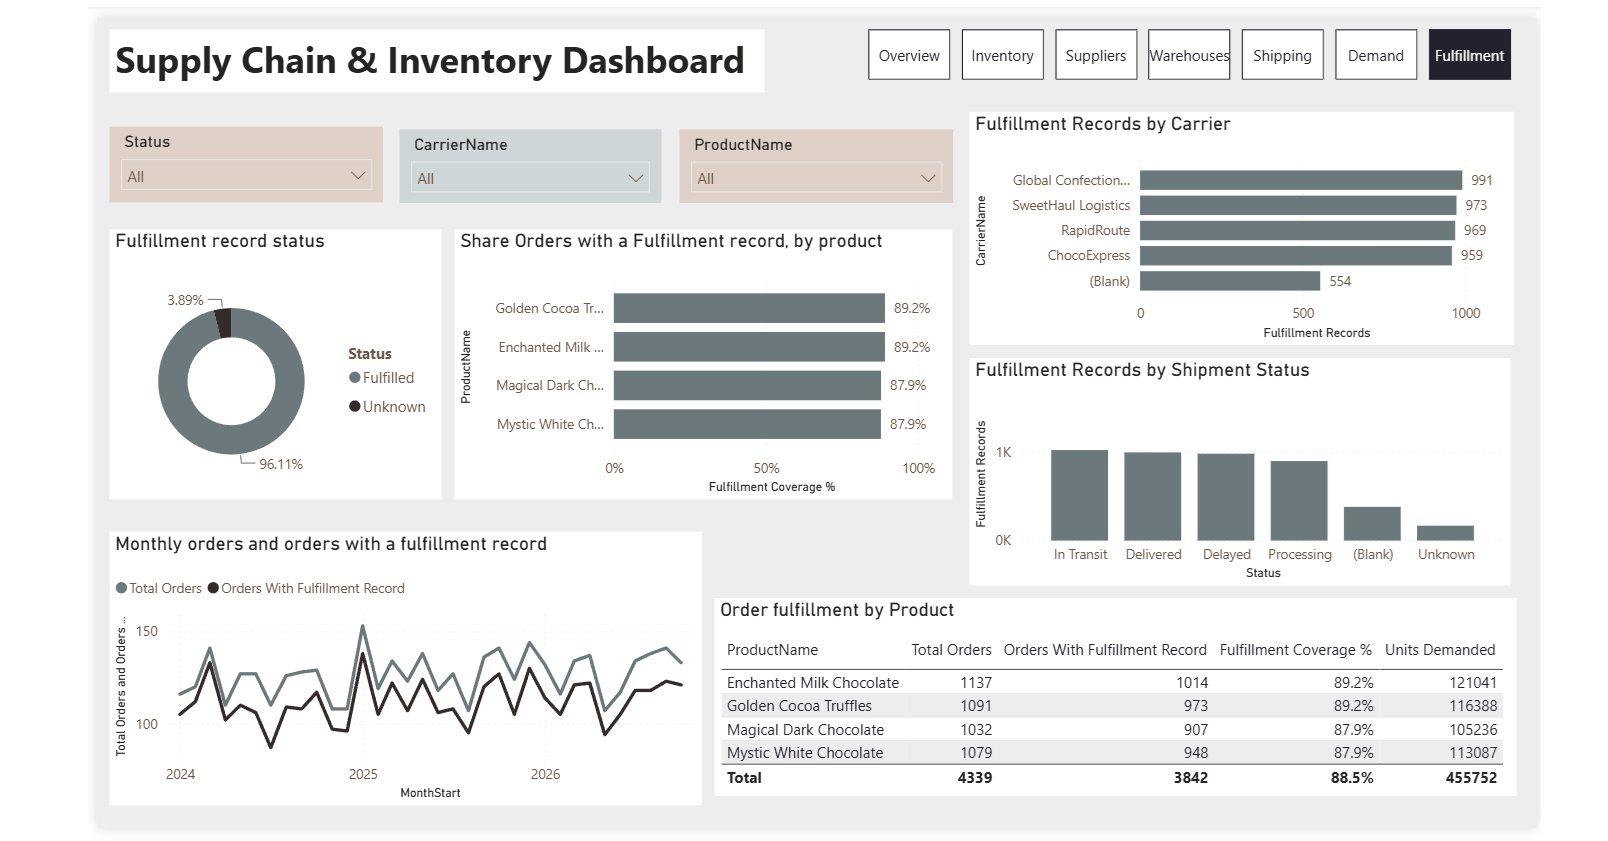

Layout of this report page (visuals, bound fields, positions):
{"tool":"powerbi","page":{"name":"Fulfillment","canvas":[1280,720],"ordinal":6},"visuals":[{"type":"clusteredBarChart","title":"Share Orders with a Fulfillment record, by product","fields":{"Category":["sales_orders_clean.ProductName"],"Y":["carriers_clean.Fulfillment Coverage %"]},"box":[318,188.1,442.7,240.1],"z":0},{"type":"clusteredColumnChart","title":"Fulfillment Records by Shipment Status","fields":{"Category":["shipment_tracking_clean.Status"],"Y":["carriers_clean.Fulfillment Records"]},"box":[775.8,302.1,481.1,202.1],"z":1000},{"type":"clusteredBarChart","title":"Fulfillment Records by Carrier","fields":{"Category":["carriers_clean.CarrierName"],"Y":["carriers_clean.Fulfillment Records"]},"box":[775.8,83.2,484.2,207.4],"z":2000},{"type":"lineChart","title":"Monthly orders and orders with a fulfillment record","fields":{"Y":["sales_orders_clean.Total Orders","carriers_clean.Orders With Fulfillment Record"],"Category":["sales_orders_clean.MonthStart"]},"box":[11.6,456.8,526.3,243.2],"z":3000},{"type":"tableEx","title":"Order fulfillment by Product","fields":{"Values":["sales_orders_clean.ProductName","sales_orders_clean.Total Orders","carriers_clean.Orders With Fulfillment Record","carriers_clean.Fulfillment Coverage %","carriers_clean.Units Demanded"]},"box":[548.4,515.8,712.6,175.8],"z":4000},{"type":"slicer","fields":{"Values":["sales_orders_clean.ProductName"]},"box":[517.9,98.9,243.5,65.2],"z":5000},{"type":"slicer","fields":{"Values":["carriers_clean.CarrierName"]},"box":[268.4,98.9,232.6,65.2],"z":6000},{"type":"slicer","fields":{"Values":["shipment_tracking_clean.Status"]},"box":[11.6,96.8,243.5,67.4],"z":7000},{"type":"textbox","box":[11.6,10.5,582.1,55.8],"z":8000},{"type":"pageNavigator","box":[685.5,10.5,575,45.7],"z":9000},{"type":"donutChart","title":"Fulfillment record status","fields":{"Category":["fulfillment_status_clean.Status"],"Y":["carriers_clean.Fulfillment Records"]},"box":[11.4,188.1,295.2,240.1],"z":10000}]}

Visuals, with their boxes on the page's 1280x720 design canvas (x1, y1, x2, y2). These are canvas units, not pixel positions in the 1608x841 screenshot, which may show the page scaled, cropped or inside an application window:
"Share Orders with a Fulfillment record, by product" clusteredBarChart: Rect(318, 188, 761, 428)
"Fulfillment Records by Shipment Status" clusteredColumnChart: Rect(776, 302, 1257, 504)
"Fulfillment Records by Carrier" clusteredBarChart: Rect(776, 83, 1260, 291)
"Monthly orders and orders with a fulfillment record" lineChart: Rect(12, 457, 538, 700)
"Order fulfillment by Product" tableEx: Rect(548, 516, 1261, 692)
slicer - sales_orders_clean.ProductName: Rect(518, 99, 761, 164)
slicer - carriers_clean.CarrierName: Rect(268, 99, 501, 164)
slicer - shipment_tracking_clean.Status: Rect(12, 97, 255, 164)
textbox: Rect(12, 10, 594, 66)
pageNavigator: Rect(686, 10, 1260, 56)
"Fulfillment record status" donutChart: Rect(11, 188, 307, 428)
